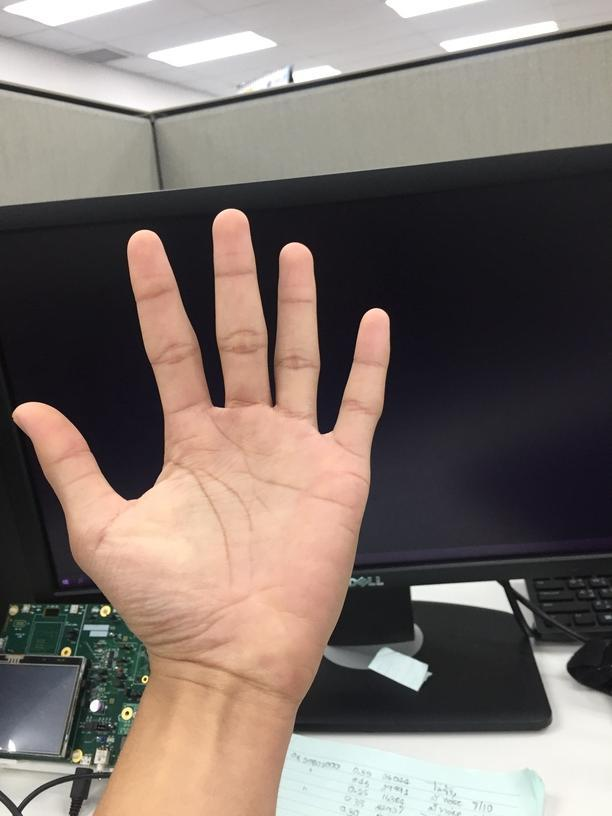hand: (12, 206, 391, 710)
